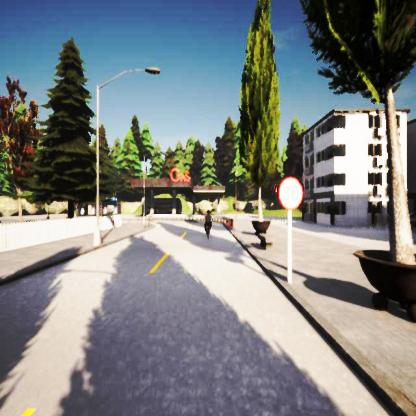motobike: (204, 211, 214, 239)
